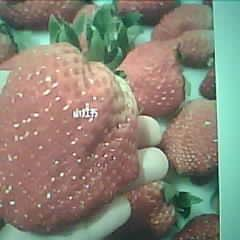straw-ripe: (0, 41, 140, 233)
